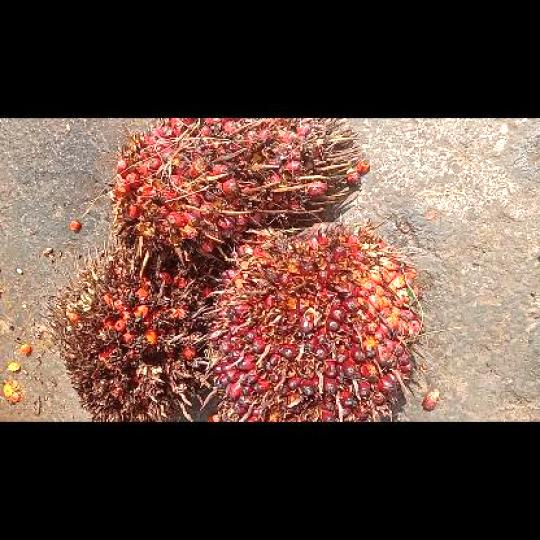masak: (197, 223, 423, 421), (109, 118, 361, 277)
terlalu masak: (36, 239, 214, 420)
